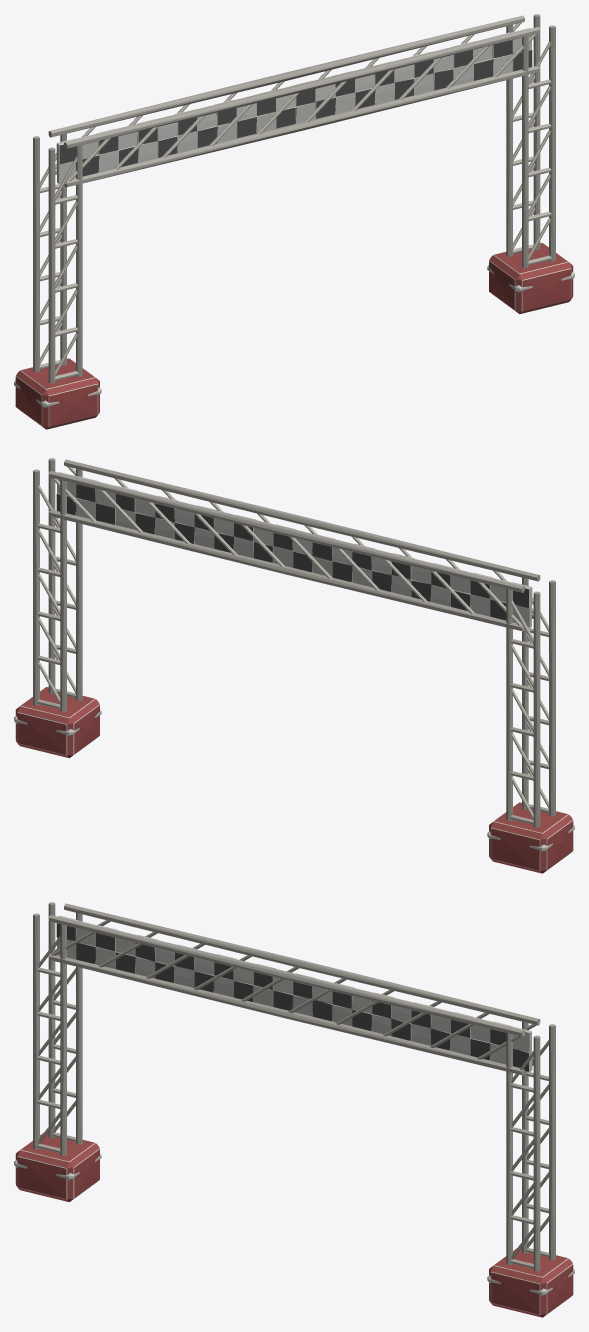
File: start_gantry.glb
The picture shows the model from 3 angles, top to bottom: view 1: azimuth 30°, elevation 25°; view 2: azimuth 150°, elevation 25°; view 3: azimuth 330°, elevation 25°; orthographic projection.
Visible parts, largest first — view 1: Body.014; view 2: Body.014; view 3: Body.014.
Part boxes in pixels (x1,y1,x2,y2): Body.014: [14, 14, 574, 429]; Body.014: [14, 458, 574, 873]; Body.014: [14, 902, 574, 1317].
Size of the model in its own units: 8.21 by 4.1 by 0.86.
